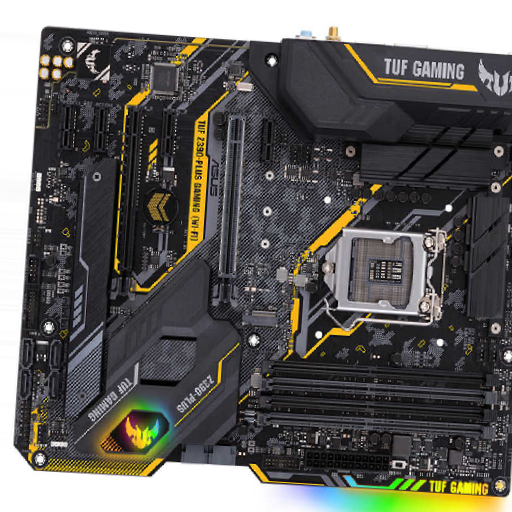CPU: (322, 230, 445, 318)
GPU: (209, 114, 247, 308), (110, 103, 145, 300)
MOTHERBOARD: (16, 28, 507, 496)
RAM: (257, 358, 497, 442)
SSD: (241, 306, 279, 328)
